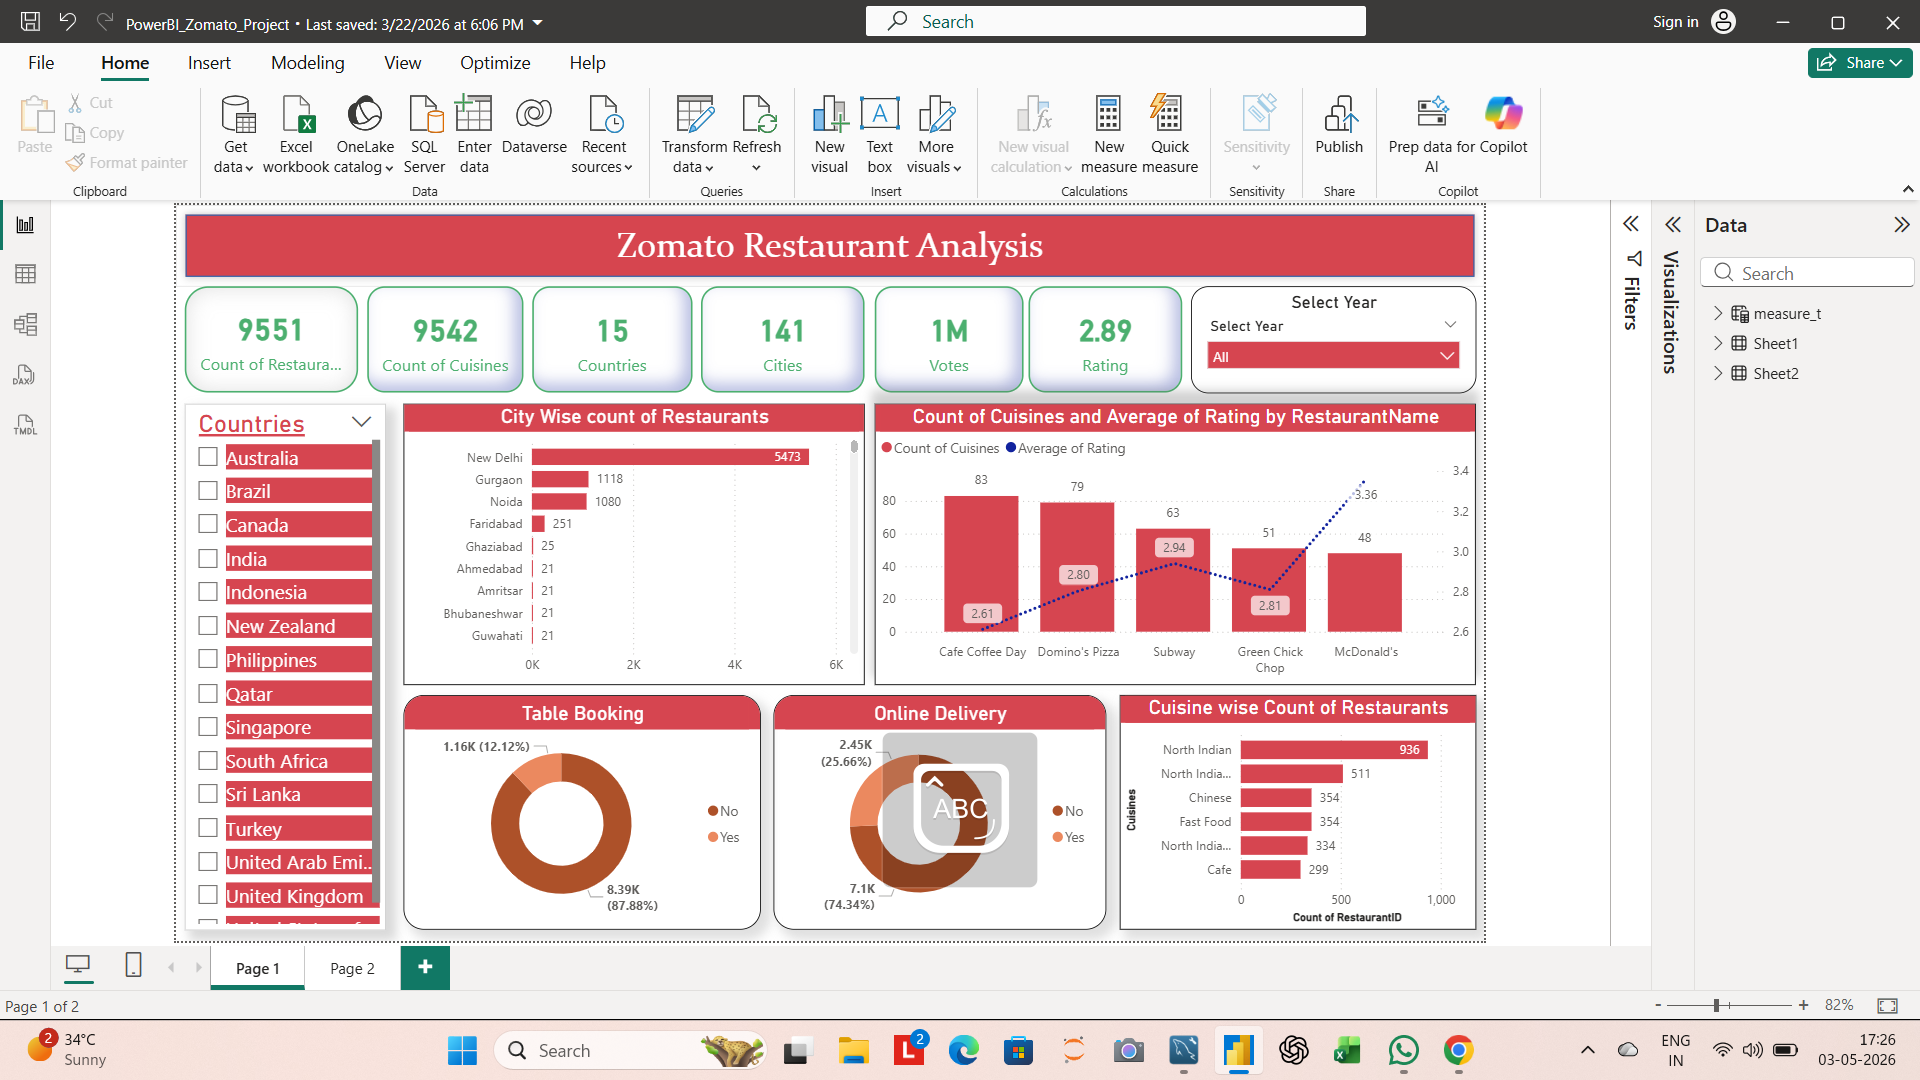

The page's visual inventory and layout, read from the dashboard file:
{"tool":"powerbi","page":{"name":"Page 1","canvas":[1280,720],"ordinal":0},"visuals":[{"type":"shape","box":[0,0,1280,80],"z":0},{"type":"card","fields":{"Values":["Count(Sheet1.RestaurantID)"]},"box":[8.6,79.5,170,103.9],"z":1000},{"type":"card","fields":{"Values":["CountNonNull(Sheet1.Cuisines)"]},"box":[187.1,79.5,152.9,103.9],"z":2000},{"type":"card","fields":{"Values":["Count(Sheet1.City)"]},"box":[513.6,79.5,160.2,103.9],"z":3000},{"type":"card","fields":{"Values":["Sum(Sheet1.Votes)"]},"box":[683.6,79.5,145.5,103.9],"z":4000},{"type":"card","fields":{"Values":["Avg(Sheet1.Rating)"]},"box":[834,79.5,150.4,103.9],"z":5000},{"type":"card","fields":{"Values":["CountNonNull(Sheet2.countryID)"]},"box":[348.5,79.5,156.5,103.9],"z":6000},{"type":"slicer","title":"Select Year","fields":{"Values":["Sheet1.Year"]},"box":[992.9,79.5,278.8,105.2],"z":7000},{"type":"slicer","fields":{"Values":["Sheet2.country name"]},"box":[8.6,194.4,196.9,514.8],"z":8000},{"type":"clusteredBarChart","title":"City  Wise count of Restaurants","fields":{"Category":["Sheet1.City"],"Y":["Count(Sheet1.RestaurantID)"]},"box":[222.6,194.4,451.2,275.1],"z":9000},{"type":"lineClusteredColumnComboChart","fields":{"Y2":["Avg(Sheet1.Rating)"],"Category":["Sheet1.RestaurantName"],"Y":["CountNonNull(Sheet1.Cuisines)"]},"box":[683.6,194.4,588.2,275.1],"z":10000},{"type":"donutChart","title":"Table Booking","fields":{"Category":["Sheet1.Has_Table_booking"],"Y":["CountNonNull(Sheet1.RestaurantID)"]},"box":[222.6,479.4,349.7,229.9],"z":11000},{"type":"donutChart","title":"Online Delivery","fields":{"Y":["CountNonNull(Sheet1.RestaurantID)"],"Category":["Sheet1.Has_Online_delivery"]},"box":[584.5,479.4,325.3,229.9],"z":12000},{"type":"barChart","title":"Cuisine wise Count of Restaurants","fields":{"Category":["Sheet1.Cuisines"],"Y":["CountNonNull(Sheet1.RestaurantID)"]},"box":[923.2,479.4,348.5,229.9],"z":13000}]}

Visuals, with their boxes on the page's 1280x720 design canvas (x1, y1, x2, y2). These are canvas units, not pixel positions in the 1920x1080 screenshot, which may show the page scaled, cropped or inside an application window:
shape: crop(0, 0, 1280, 80)
card - Count(Sheet1.RestaurantID): crop(9, 80, 179, 183)
card - CountNonNull(Sheet1.Cuisines): crop(187, 80, 340, 183)
card - Count(Sheet1.City): crop(514, 80, 674, 183)
card - Sum(Sheet1.Votes): crop(684, 80, 829, 183)
card - Avg(Sheet1.Rating): crop(834, 80, 984, 183)
card - CountNonNull(Sheet2.countryID): crop(348, 80, 505, 183)
"Select Year" slicer: crop(993, 80, 1272, 185)
slicer - Sheet2.country name: crop(9, 194, 206, 709)
"City  Wise count of Restaurants" clusteredBarChart: crop(223, 194, 674, 470)
lineClusteredColumnComboChart - Avg(Sheet1.Rating) x Sheet1.RestaurantName: crop(684, 194, 1272, 470)
"Table Booking" donutChart: crop(223, 479, 572, 709)
"Online Delivery" donutChart: crop(584, 479, 910, 709)
"Cuisine wise Count of Restaurants" barChart: crop(923, 479, 1272, 709)
